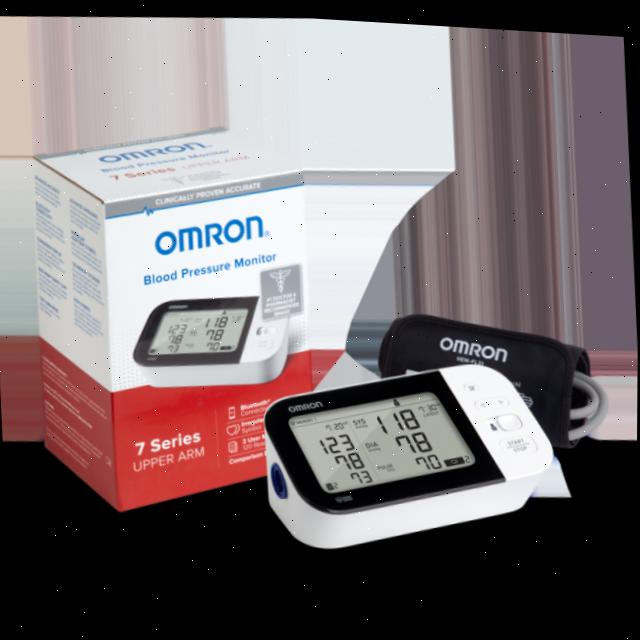dia: (392, 416, 438, 460), (327, 436, 371, 474)
pul: (410, 441, 450, 475), (346, 459, 382, 488)
ssd: (287, 376, 480, 496)
sys: (369, 394, 428, 435), (313, 422, 360, 454)
